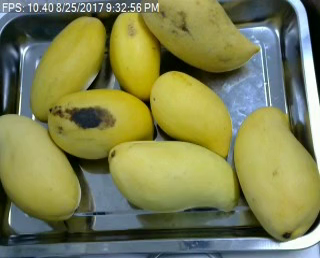Mango: (231, 107, 320, 240), (108, 142, 239, 213), (141, 0, 260, 74), (0, 114, 80, 220), (31, 15, 106, 121), (48, 90, 154, 159), (148, 71, 229, 156), (109, 10, 160, 101)
